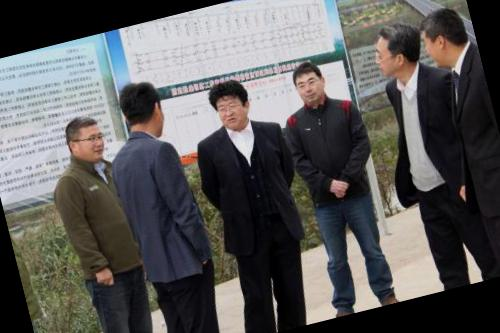no_helmet: (410, 0, 474, 75), (110, 71, 172, 145), (369, 17, 434, 84), (202, 72, 258, 134), (56, 108, 112, 170), (285, 54, 333, 111)
